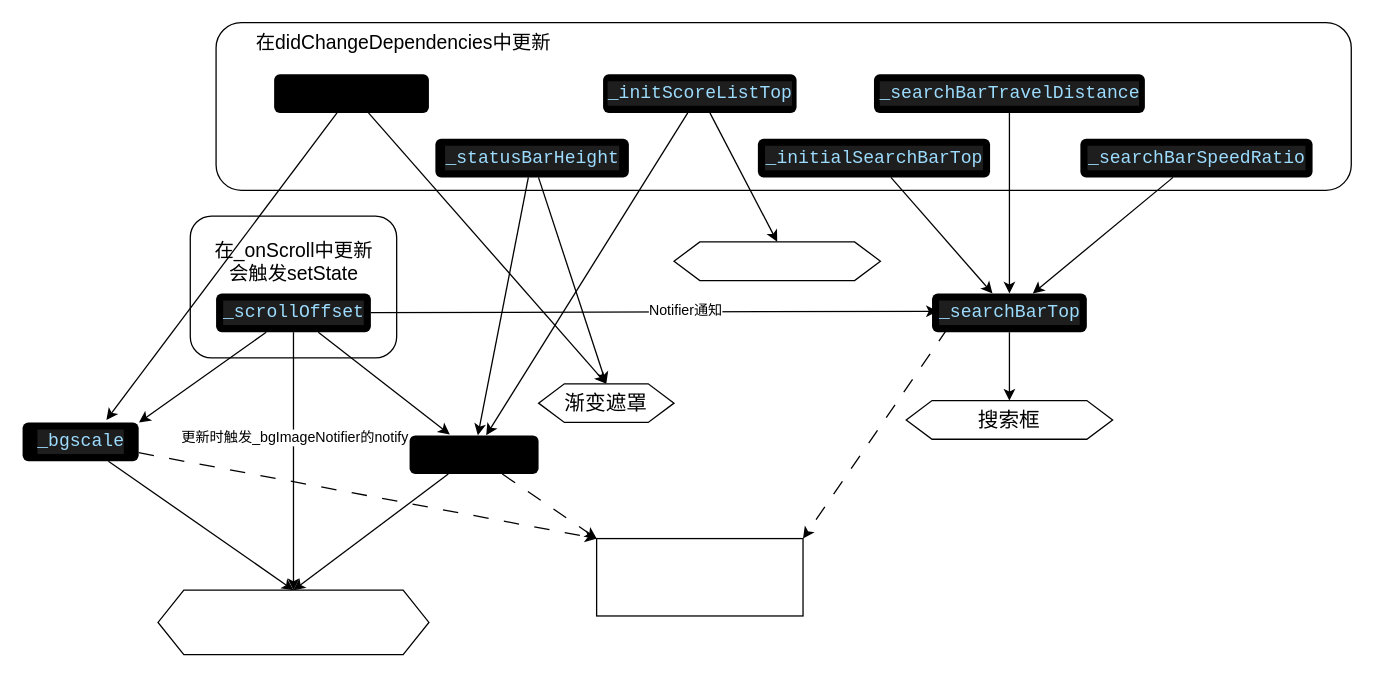
Some shapes in this 1374 by 677 pixel diagram are drawn without their labels. Here are the shapes that lost their labels. From the top down, the centre of each, then its label:
At [350,93]: "_screenHeight".
At [776,261]: "顶部空白区域".
At [473,454]: "_bgOpacity".
At [699,576]: "被优化到ValueListenableBuilder 中了".
At [293,622]: "背景图 被 _bgImageNotifier".
